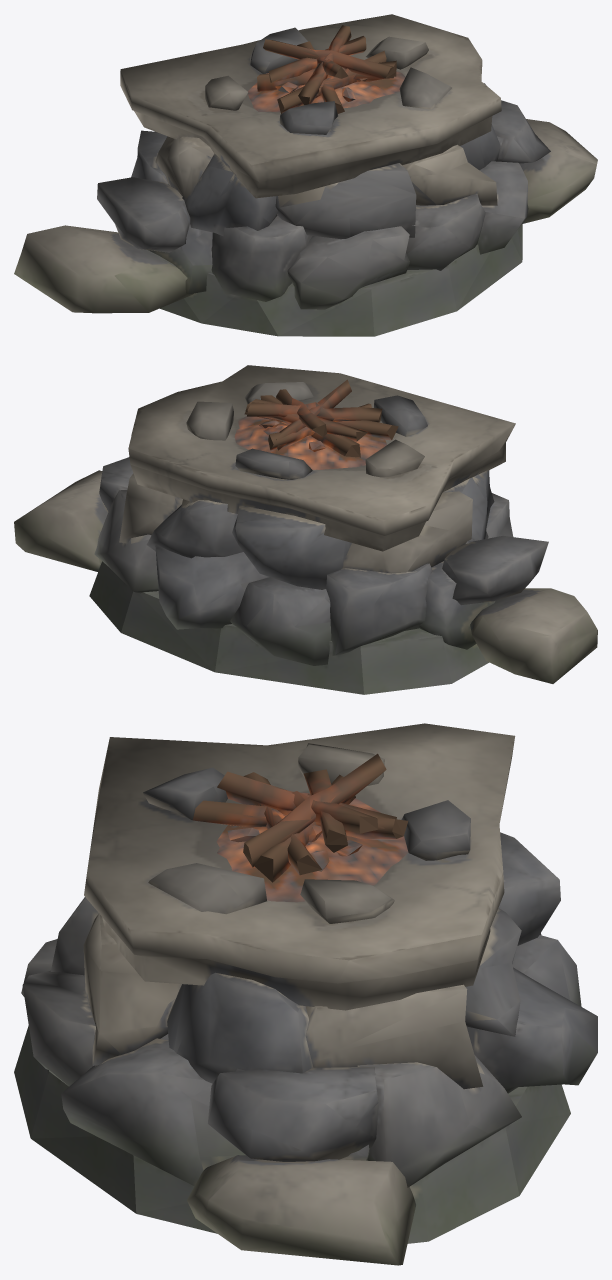
The model's file is ararat_altar_cyclopean_lod1.glb.
3 renders of one model, top to bottom at view 1: azimuth 30°, elevation 25°; view 2: azimuth 150°, elevation 25°; view 3: azimuth 270°, elevation 25°, orthographic. The views are drawn at different scales.
Parts seen in each view (by area): view 1: Altar_Stone.001, Altar_Charcoal_Ember.001; view 2: Altar_Stone.001, Altar_Charcoal_Ember.001; view 3: Altar_Stone.001, Altar_Charcoal_Ember.001.
Boxes of the visible parts, x1,y1,x2,y2 form: Altar_Stone.001: [14, 14, 597, 336]; Altar_Charcoal_Ember.001: [248, 25, 405, 113]; Altar_Stone.001: [14, 365, 597, 694]; Altar_Charcoal_Ember.001: [234, 379, 398, 469]; Altar_Stone.001: [14, 723, 597, 1265]; Altar_Charcoal_Ember.001: [193, 753, 408, 902].
Bounding box in the file's own units: 4.18 × 1.56 × 2.52.
Materials: 2 (2 with a texture image).
